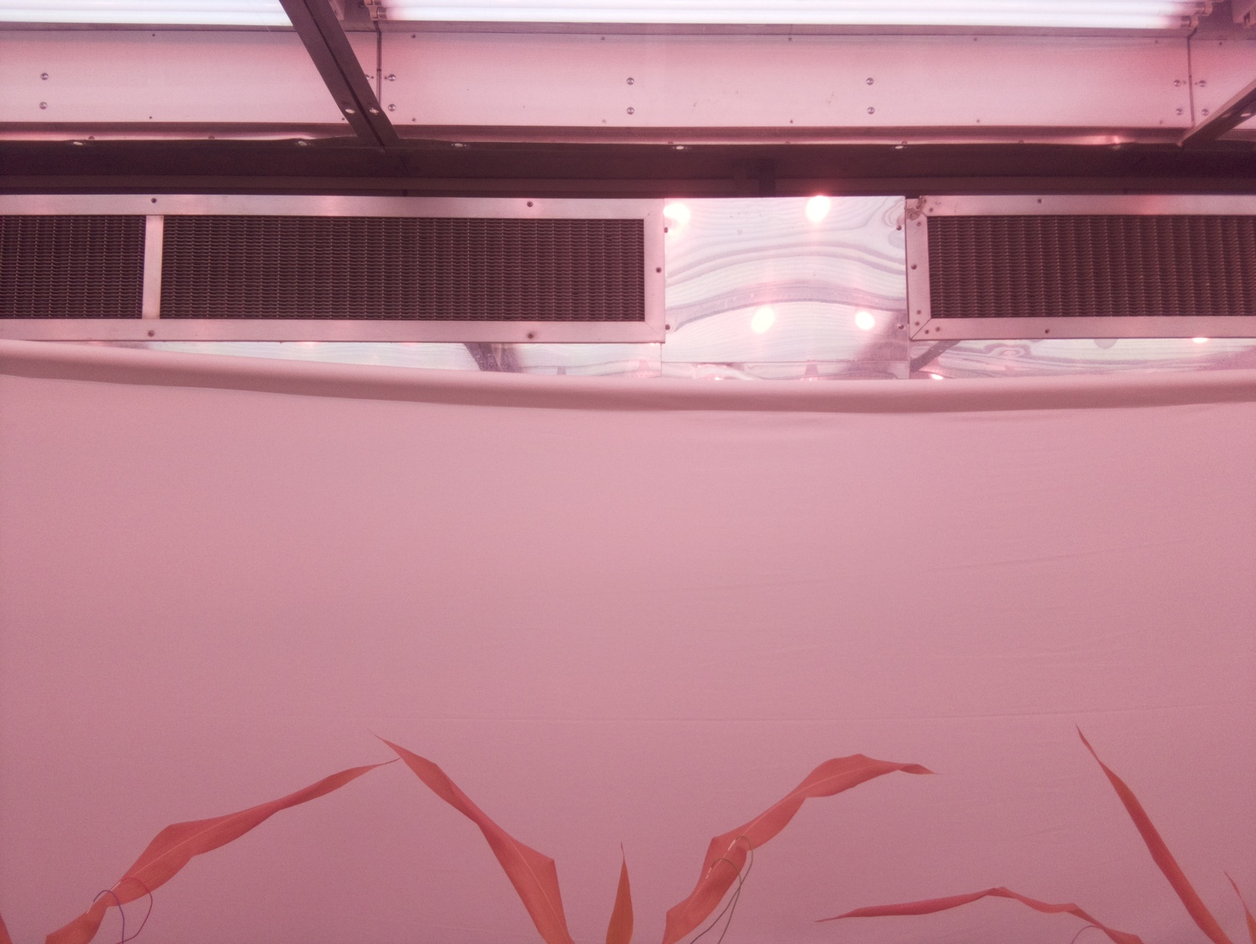maize: (373, 731, 937, 944), (813, 722, 1256, 944), (1, 757, 398, 944)
